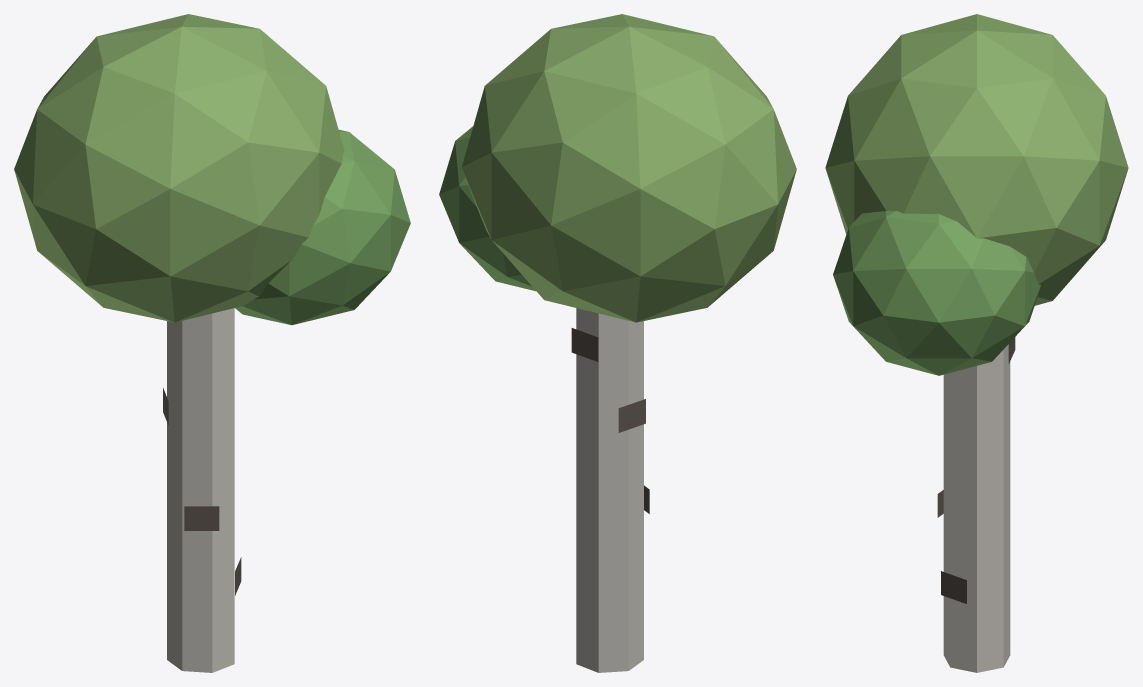
File: tree_birch.glb
The picture shows the model from 3 angles, left to right: view 1: azimuth 30°, elevation 25°; view 2: azimuth 150°, elevation 25°; view 3: azimuth 270°, elevation 25°; orthographic projection. The views are drawn at different scales.
Visible parts, largest first — view 1: part_01, part_00, part_02, part_04; view 2: part_01, part_00, part_02, part_06, part_05; view 3: part_01, part_02, part_00, part_03.
Boxes of the visible parts, x1,y1,x2,y2 form: part_01: (14, 14, 344, 322); part_00: (167, 308, 234, 672); part_02: (235, 129, 410, 325); part_04: (184, 506, 219, 530); part_01: (461, 14, 796, 322); part_00: (576, 308, 643, 672); part_02: (439, 126, 535, 291); part_06: (571, 328, 598, 361); part_05: (618, 399, 645, 432); part_01: (825, 14, 1128, 305); part_02: (833, 211, 1040, 375); part_00: (943, 344, 1010, 672); part_03: (941, 571, 966, 603).
Bounding box in the file's own units: 0.51 × 0.9 × 0.4.
